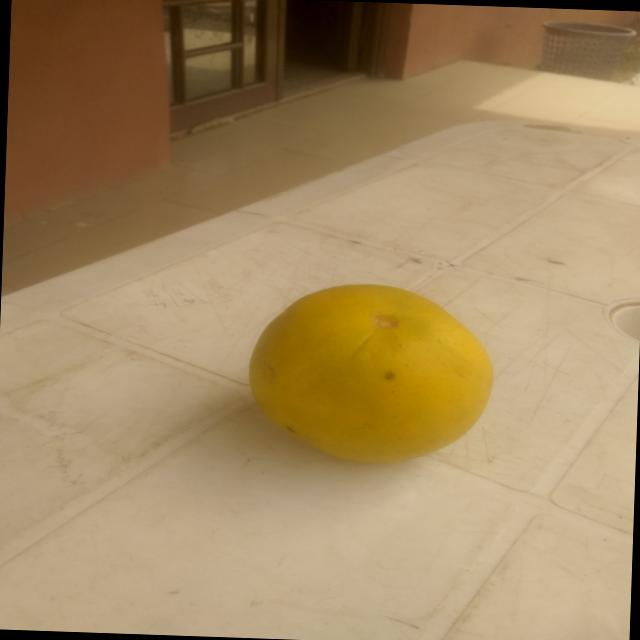Ripe orange: (238, 276, 502, 473)
